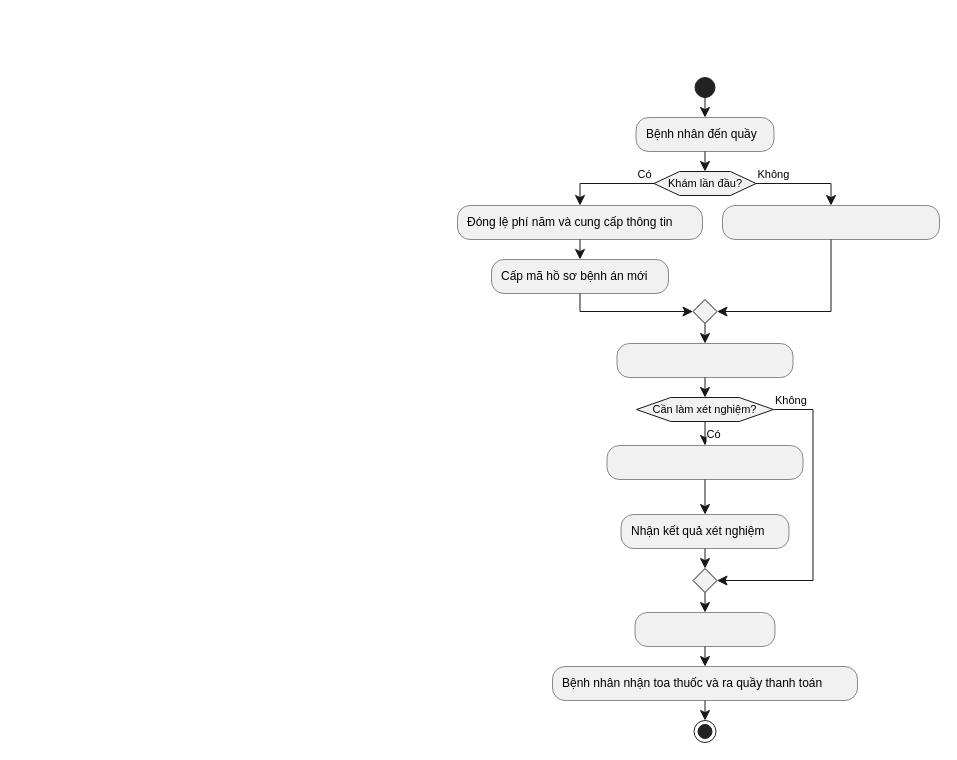
Image size: 957x760. Some labels were removed from this diagram. Here are the shapes that lost their labels. From the top down, the centre of each, then its label:
At point (830, 222): "Đọc mã hồ sơ/thông tin để tra cứu".
At point (704, 360): "Gặp bác sĩ khám lâm sàng".
At point (704, 462): "Chỉ định và đi làm xét nghiệm".
At point (704, 629): "Bác sĩ lập toa thuốc".
